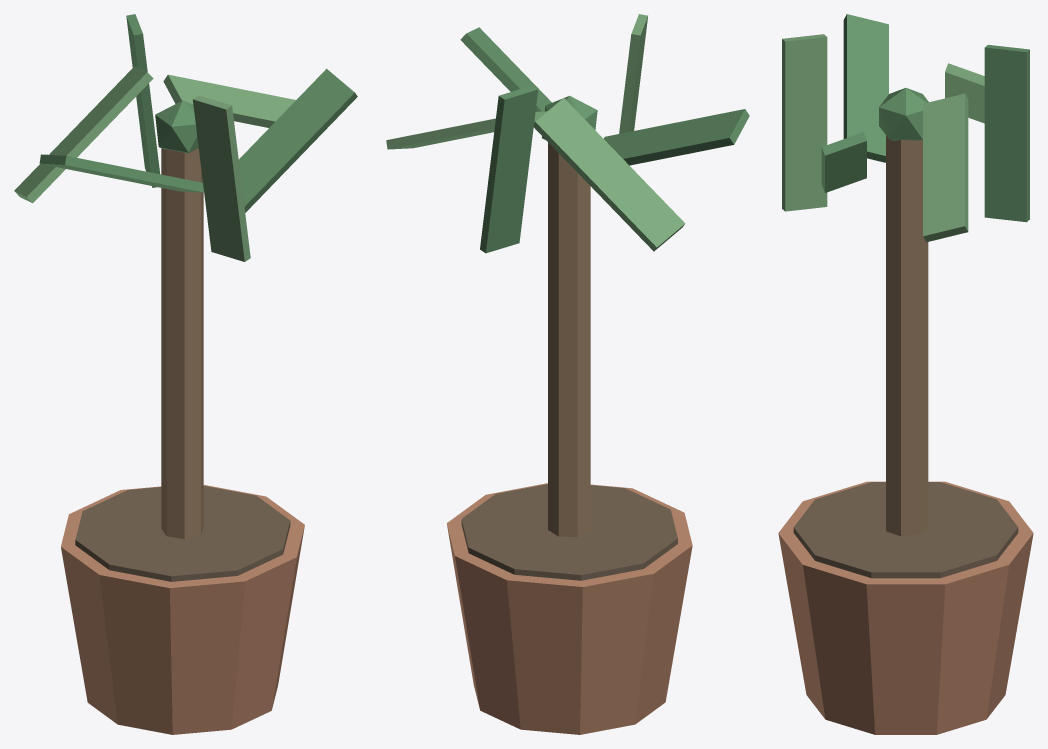
The model's file is pla_palmeira_sala.glb.
The picture shows the model from 3 angles, left to right: view 1: azimuth 30°, elevation 25°; view 2: azimuth 150°, elevation 25°; view 3: azimuth 270°, elevation 25°; orthographic projection. The views are drawn at different scales.
Parts seen in each view (by area): view 1: PLA_PALMEIRA_SALA_v01; view 2: PLA_PALMEIRA_SALA_v01; view 3: PLA_PALMEIRA_SALA_v01.
Part boxes in pixels (bbox=[...]): PLA_PALMEIRA_SALA_v01: bbox=[14, 14, 357, 734]; PLA_PALMEIRA_SALA_v01: bbox=[386, 14, 749, 734]; PLA_PALMEIRA_SALA_v01: bbox=[778, 14, 1033, 734].
Size of the model in its own units: 0.5675 by 1.12 by 0.4.
